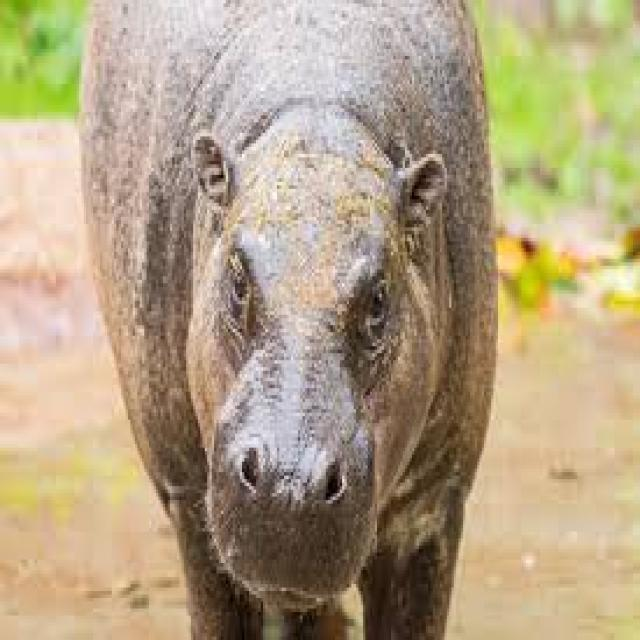Hippopotamus: (82, 4, 498, 637)
